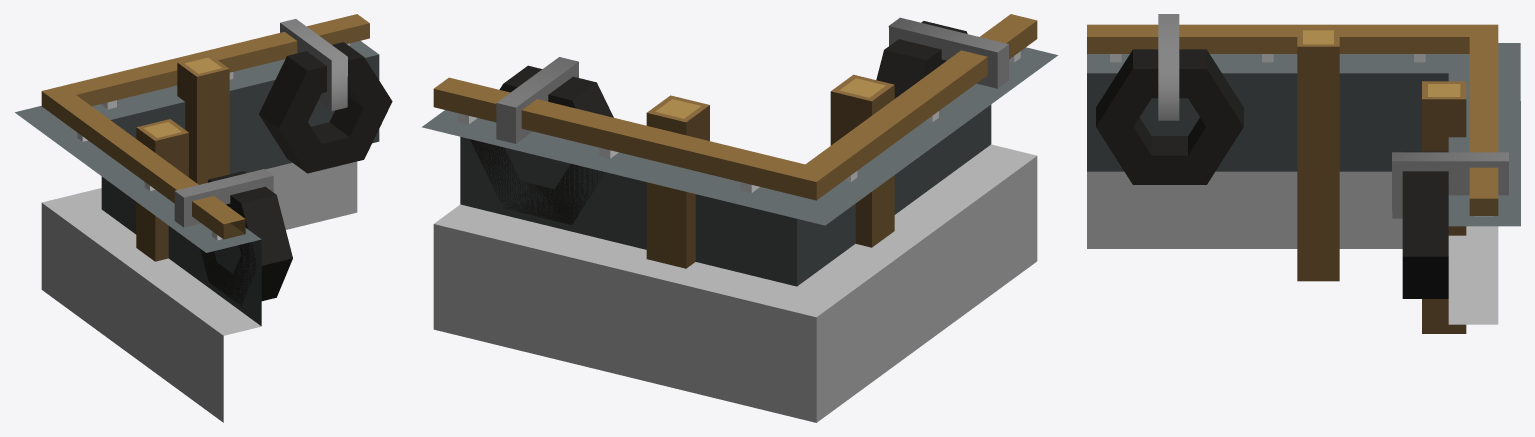
File: Turning_7.fbx
The picture shows the model from 3 angles, left to right: view 1: azimuth 30°, elevation 25°; view 2: azimuth 150°, elevation 25°; view 3: azimuth 270°, elevation 25°; orthographic projection. The views are drawn at different scales.
Parts seen in each view (by area): view 1: Turning003; view 2: Turning003; view 3: Turning003.
Part boxes in pixels (bbox=[...]): Turning003: bbox=[15, 14, 392, 422]; Turning003: bbox=[422, 14, 1058, 422]; Turning003: bbox=[1087, 14, 1520, 333].
Bounding box in the file's own units: 433 × 258 × 433.
